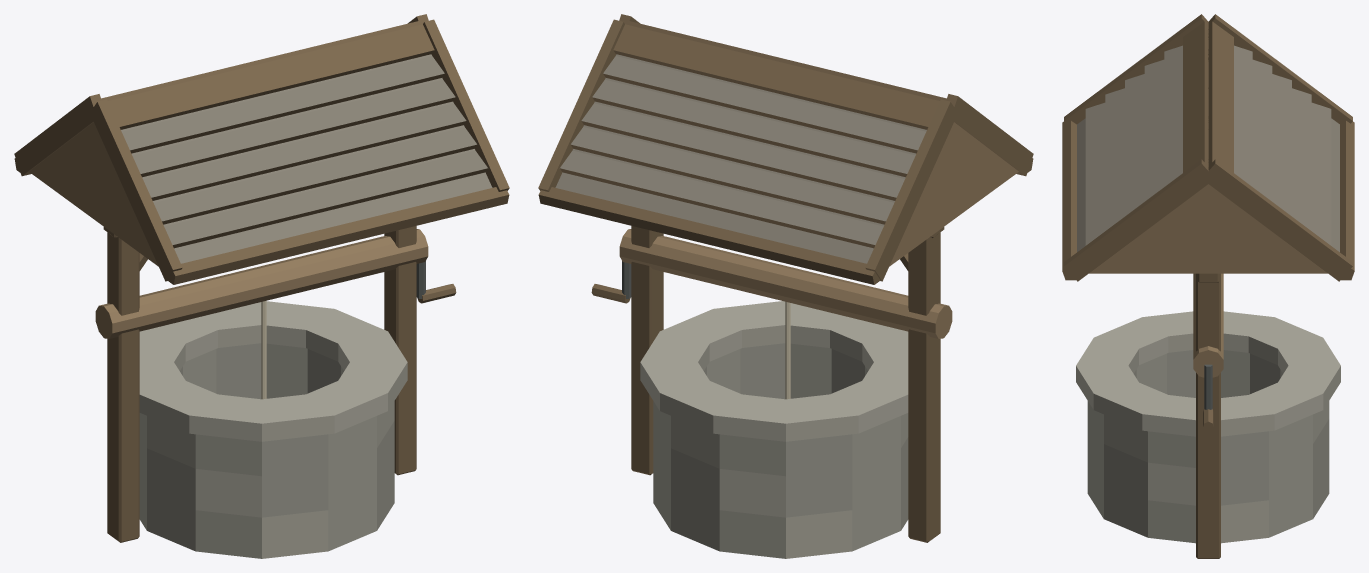
File: well.glb
3 views of the same model, side by side, from view 1: azimuth 30°, elevation 25°; view 2: azimuth 150°, elevation 25°; view 3: azimuth 270°, elevation 25° (orthographic). The views are drawn at different scales.
Parts seen in each view (by area): view 1: well_fort_shingle, well_oak_dark, well_fort_masonry, well_fort_stone_light, well_oak; view 2: well_fort_shingle, well_oak_dark, well_fort_masonry, well_fort_stone_light, well_oak; view 3: well_fort_shingle, well_oak_dark, well_fort_masonry, well_fort_stone_light, well_oak, well_iron.
Part boxes in pixels (box(x1,y1,x2,y2)): well_fort_shingle: box(29, 54, 492, 266); well_oak_dark: box(14, 14, 509, 542); well_fort_masonry: box(139, 343, 394, 558); well_fort_stone_light: box(139, 301, 407, 441); well_oak: box(95, 229, 428, 338); well_fort_shingle: box(555, 54, 1018, 266); well_oak_dark: box(538, 14, 1033, 542); well_fort_masonry: box(653, 343, 908, 558); well_fort_stone_light: box(640, 301, 908, 441); well_oak: box(619, 229, 952, 338); well_fort_shingle: box(1077, 45, 1339, 273); well_oak_dark: box(1062, 14, 1354, 558); well_fort_masonry: box(1087, 350, 1329, 543); well_fort_stone_light: box(1076, 311, 1340, 436); well_oak: box(1193, 273, 1223, 377); well_iron: box(1204, 364, 1212, 409).
Size of the model in its own units: 2.6 by 3.07 by 2.01.
